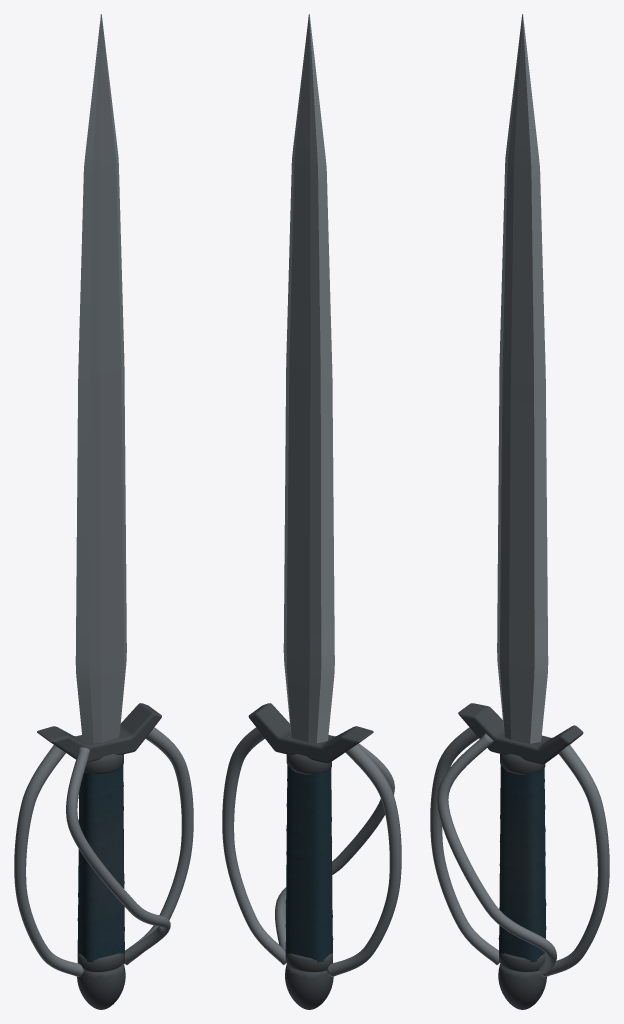
Rendered from stormsilver.glb.
3 renders of one model, left to right at view 1: azimuth 30°, elevation 25°; view 2: azimuth 150°, elevation 25°; view 3: azimuth 330°, elevation 25°, orthographic.
Parts seen in each view (by area): view 1: stormsilver_Baked.001 export; view 2: stormsilver_Baked.001 export; view 3: stormsilver_Baked.001 export.
Boxes of the visible parts, x1,y1,x2,y2 form: stormsilver_Baked.001 export: [14, 14, 193, 1009]; stormsilver_Baked.001 export: [222, 14, 401, 1009]; stormsilver_Baked.001 export: [430, 14, 609, 1009].
Size of the model in its own units: 0.2153 by 1.15 by 0.0991.
1 material, 1 textured.
